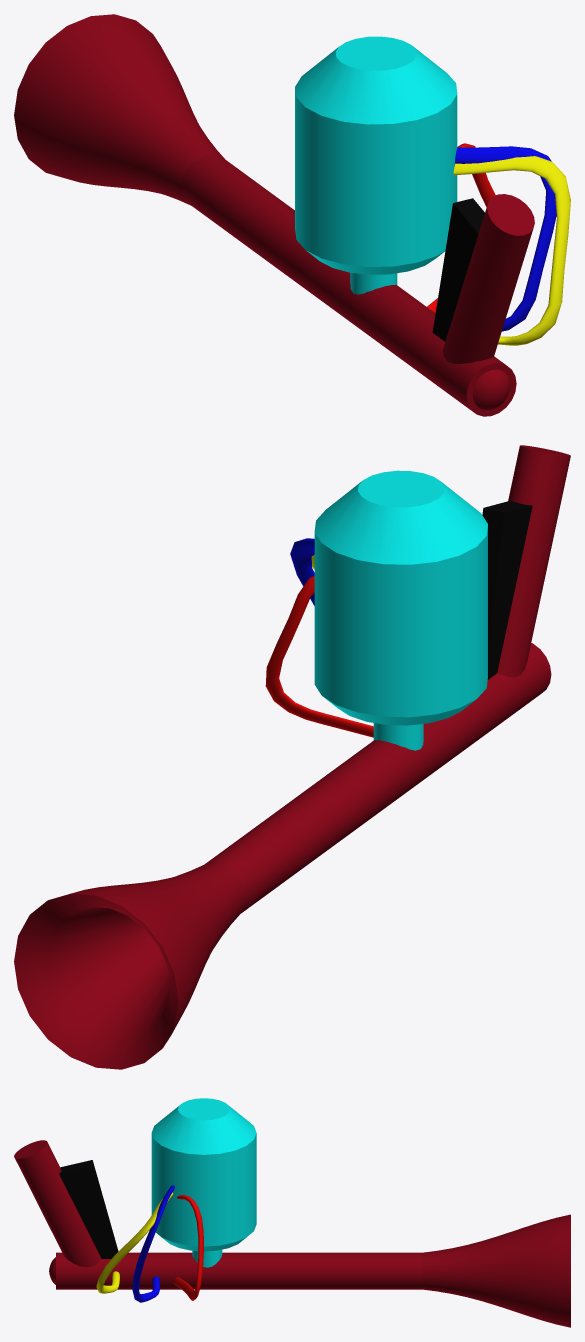
Rendered from fertilizerArtificial.fbx.
The picture shows the model from 3 angles, top to bottom: view 1: azimuth 30°, elevation 25°; view 2: azimuth 150°, elevation 25°; view 3: azimuth 270°, elevation 25°; orthographic projection. The views are drawn at different scales.
Parts seen in each view (by area): view 1: pCylinder3, pCone1, pCylinder1, pCylinder2, pCylinder5, pasted__pCylinder5 (×2), pCube1, pSphere1, pCylinder4; view 2: pCylinder3, pCone1, pCylinder1, pCylinder2, pCube1, pasted__pCylinder5 (×2), pCylinder4; view 3: pCylinder3, pCylinder1, pCone1, pCylinder2, pCube1, pasted__pCylinder5 (×2), pCylinder5, pCylinder4.
Part boxes in pixels (<box>): pCylinder3: <box>295,36,457,274</box>; pCone1: <box>14,14,224,205</box>; pCylinder1: <box>181,154,516,416</box>; pCylinder2: <box>443,194,534,363</box>; pCylinder5: <box>453,156,570,345</box>; pasted__pCylinder5 (×2): <box>427,143,556,331</box>; pCube1: <box>432,198,484,341</box>; pSphere1: <box>472,369,510,410</box>; pCylinder4: <box>350,272,397,294</box>; pCylinder3: <box>314,470,487,725</box>; pCone1: <box>14,862,246,1069</box>; pCylinder1: <box>204,643,551,913</box>; pCylinder2: <box>497,445,570,677</box>; pCube1: <box>482,500,532,679</box>; pasted__pCylinder5 (×2): <box>265,538,373,737</box>; pCylinder4: <box>373,723,423,750</box>; pCylinder3: <box>151,1098,256,1251</box>; pCylinder1: <box>56,1252,422,1289</box>; pCone1: <box>422,1214,570,1327</box>; pCylinder2: <box>14,1140,101,1267</box>; pCube1: <box>59,1160,118,1258</box>; pasted__pCylinder5 (×2): <box>132,1185,203,1302</box>; pCylinder5: <box>96,1192,173,1293</box>; pCylinder4: <box>192,1249,222,1267</box>.
Bounding box in the file's own units: 4.4 × 6.35 × 15.
